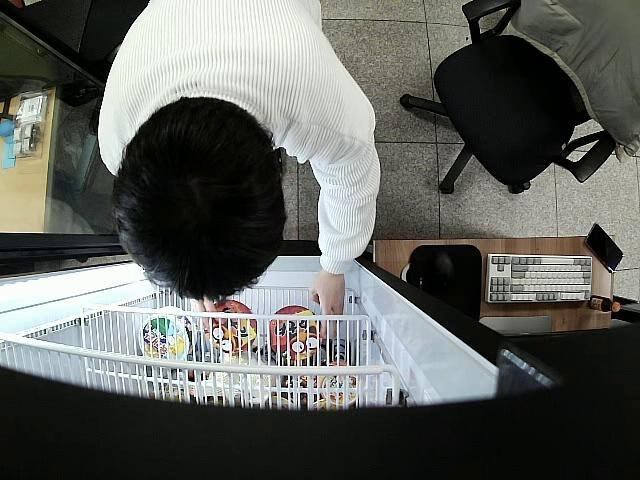05_nuguri_L: (268, 306, 322, 360), (206, 298, 256, 352)
